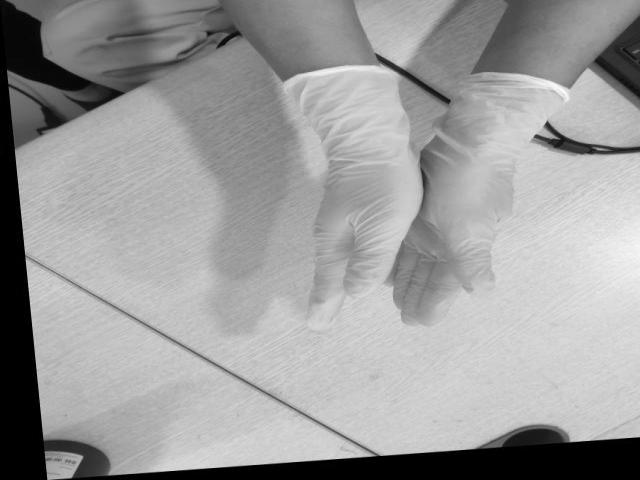gloved: (400, 123, 512, 329), (309, 122, 417, 330)
